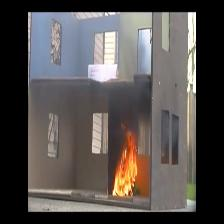fire: (113, 133, 139, 195)
smoke: (116, 78, 153, 122)
